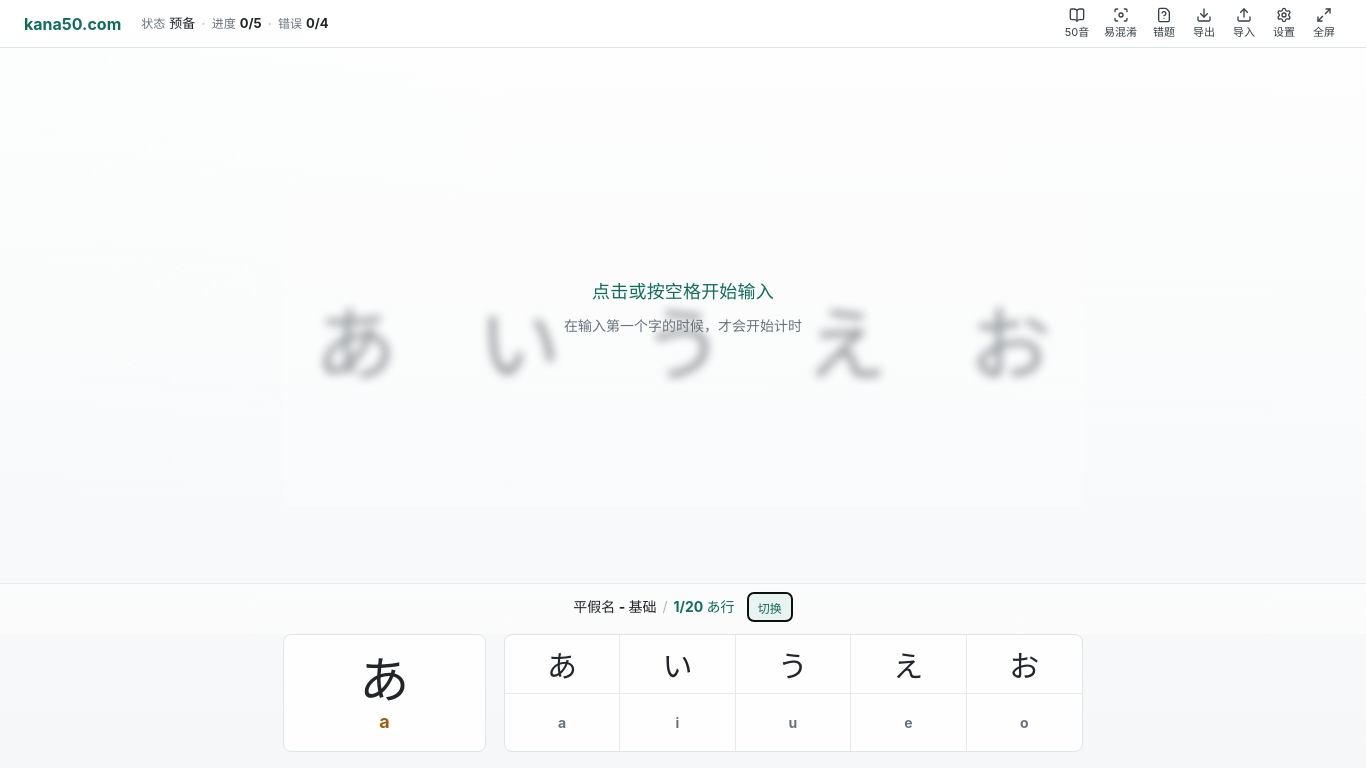
Test case: practice page › Space on the focused level switch opens the drawer without starting practice
Press Space in the button with aria-label "切换关卡", box [747, 592, 793, 622]
Click the button with aria-label "切换关卡". click: (770, 607)
box: [747, 592, 793, 622]
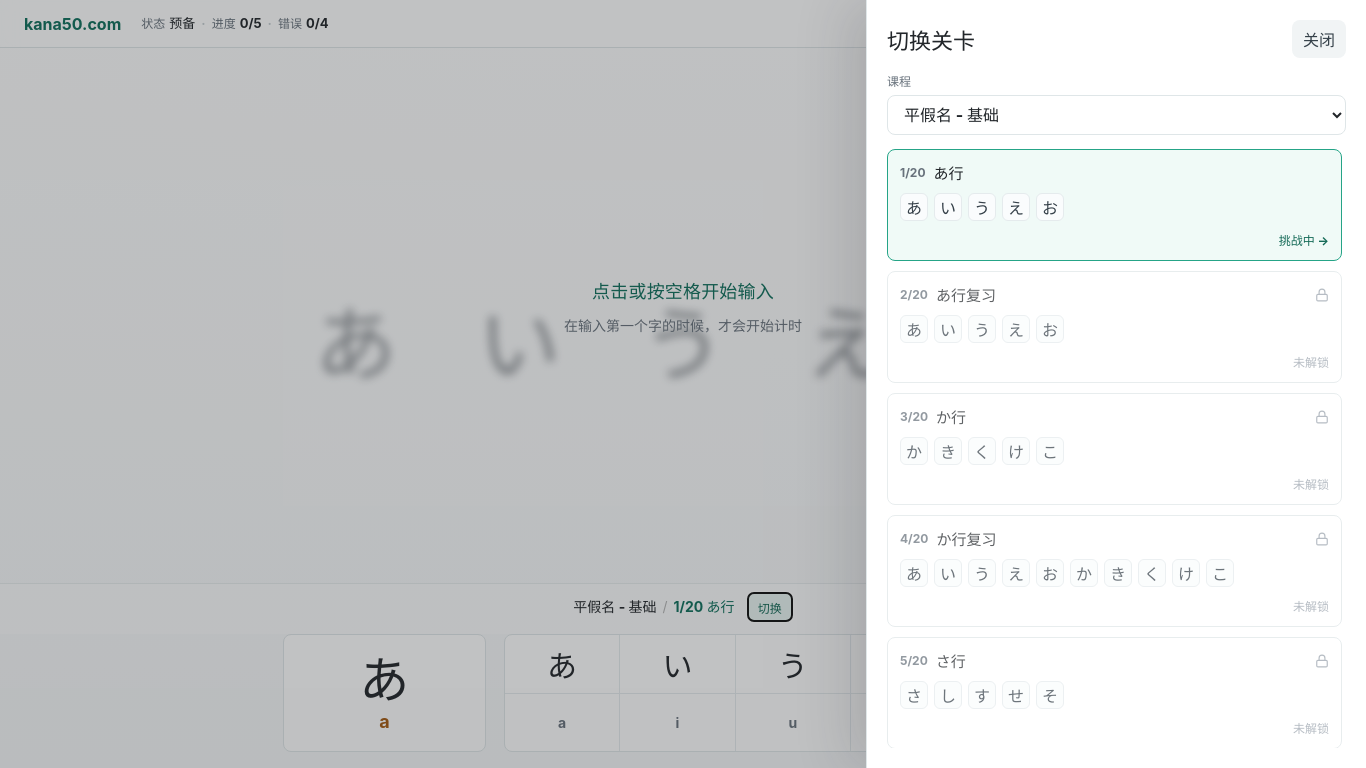
Expected: the text "预备" is shown, [169, 16, 195, 31]
Expected: the dialog named "关卡列表" is shown, [866, 0, 1365, 767]
